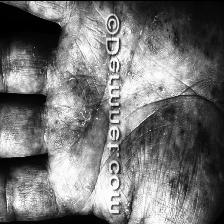Non-Cancerous Skin Condition: (134, 0, 224, 215)
